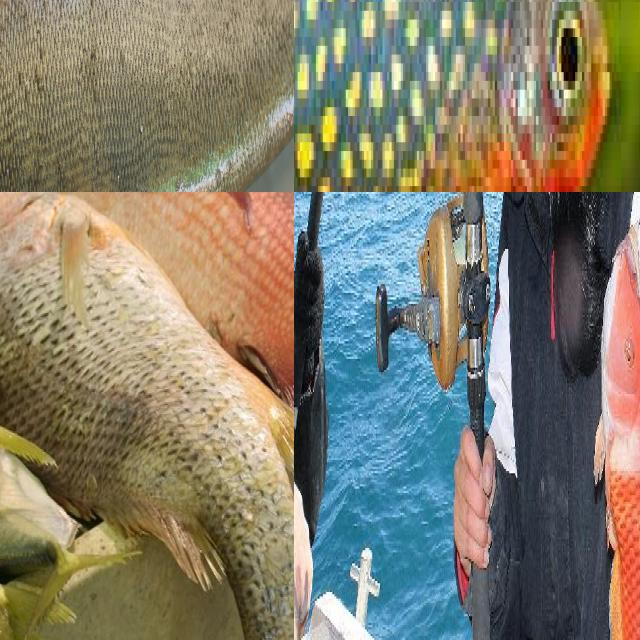fish: (32, 192, 294, 640), (0, 0, 294, 192), (294, 0, 640, 124), (593, 222, 640, 640)
